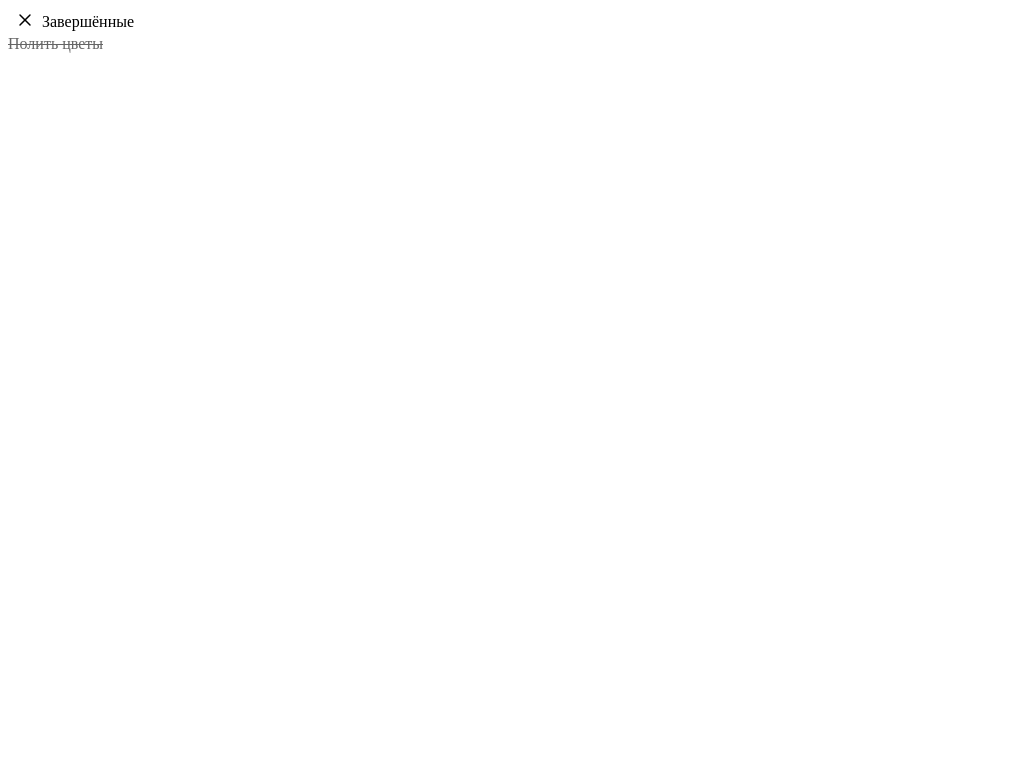
Completed — §11.10 recurring с уже существующим next occurrence › диалог показывает ТОЛЬКО «Создать отдельную копию», без обычной кнопки «Восстановить»
The image size is (1024, 768).
Click the text "Полить цветы" at (56, 44), box x1=8 y1=35 x2=103 y2=53
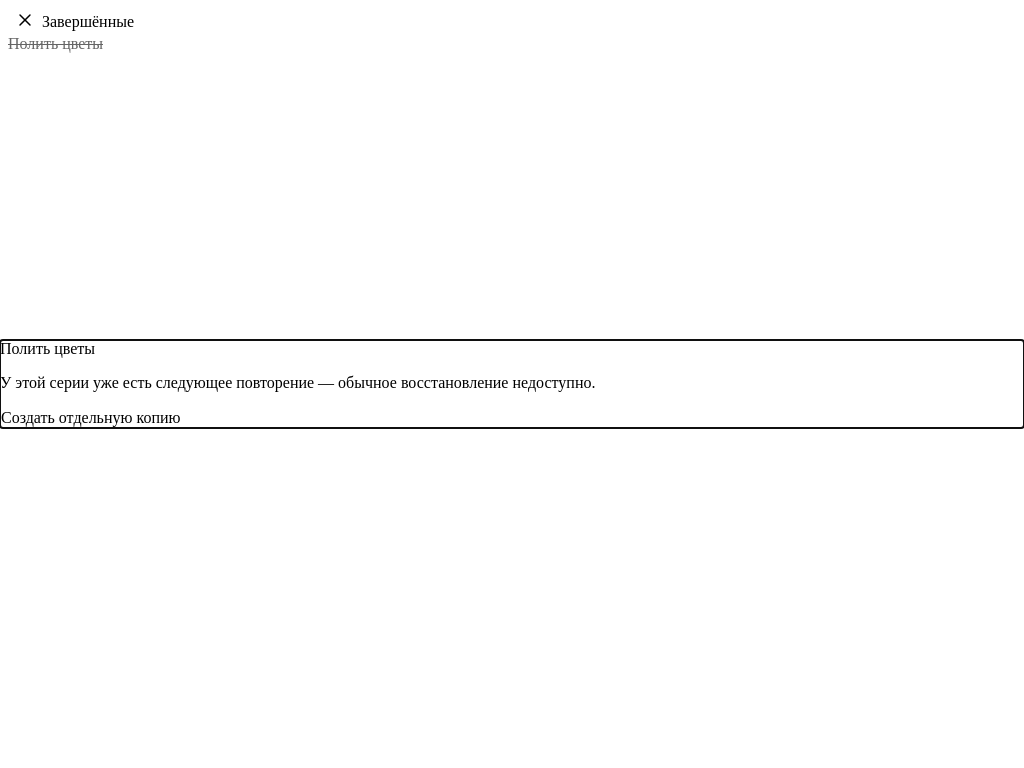
Now the button "Создать отдельную копию" is shown, box x1=0 y1=408 x2=182 y2=428
